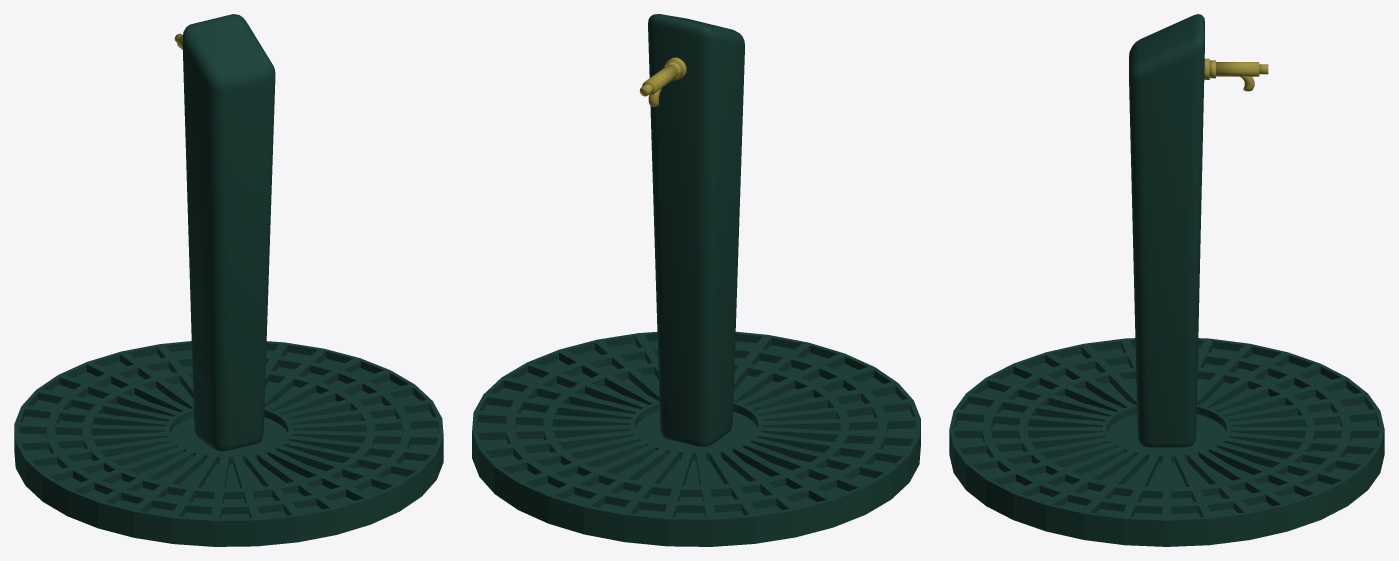
Rendered from Fontana.fbx.
3 views of the same model, side by side, from view 1: azimuth 30°, elevation 25°; view 2: azimuth 150°, elevation 25°; view 3: azimuth 270°, elevation 25° (orthographic). The views are drawn at different scales.
Visible parts, largest first — view 1: Fontana; view 2: Fontana; view 3: Fontana.
Boxes of the visible parts, bbox=[...] form: Fontana: bbox=[14, 14, 443, 546]; Fontana: bbox=[472, 14, 920, 546]; Fontana: bbox=[949, 14, 1384, 546].
Size of the model in its own units: 236 by 257 by 236.
